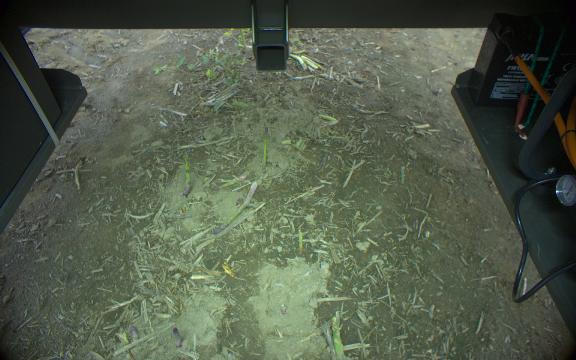aspa: (214, 181, 258, 235), (328, 311, 348, 360), (181, 153, 195, 197), (262, 124, 270, 173), (171, 326, 185, 348), (297, 227, 305, 254)
